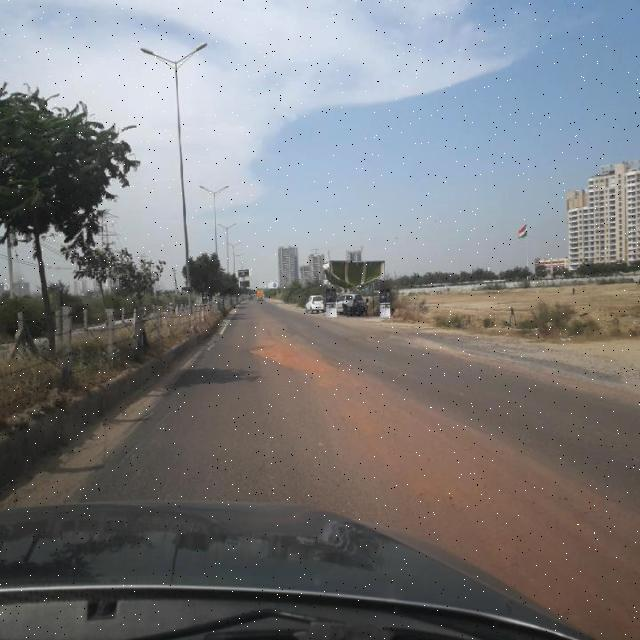D40: (243, 333, 351, 391)
